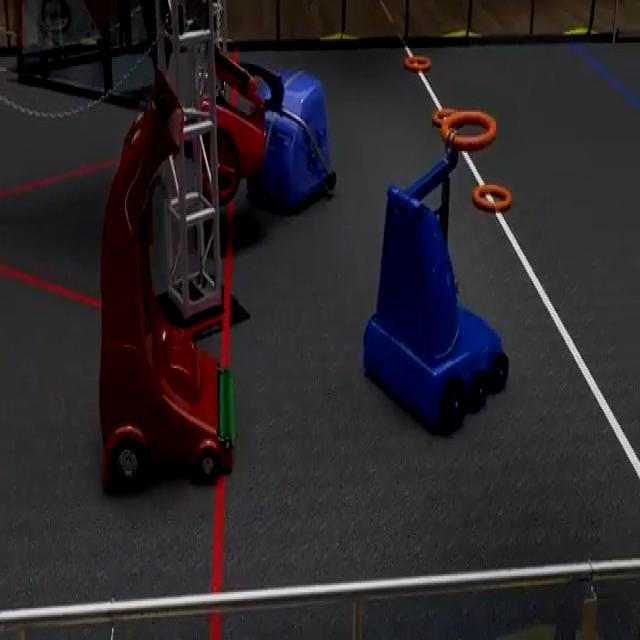notes: (437, 110, 499, 152), (472, 184, 514, 213), (404, 57, 432, 72)
